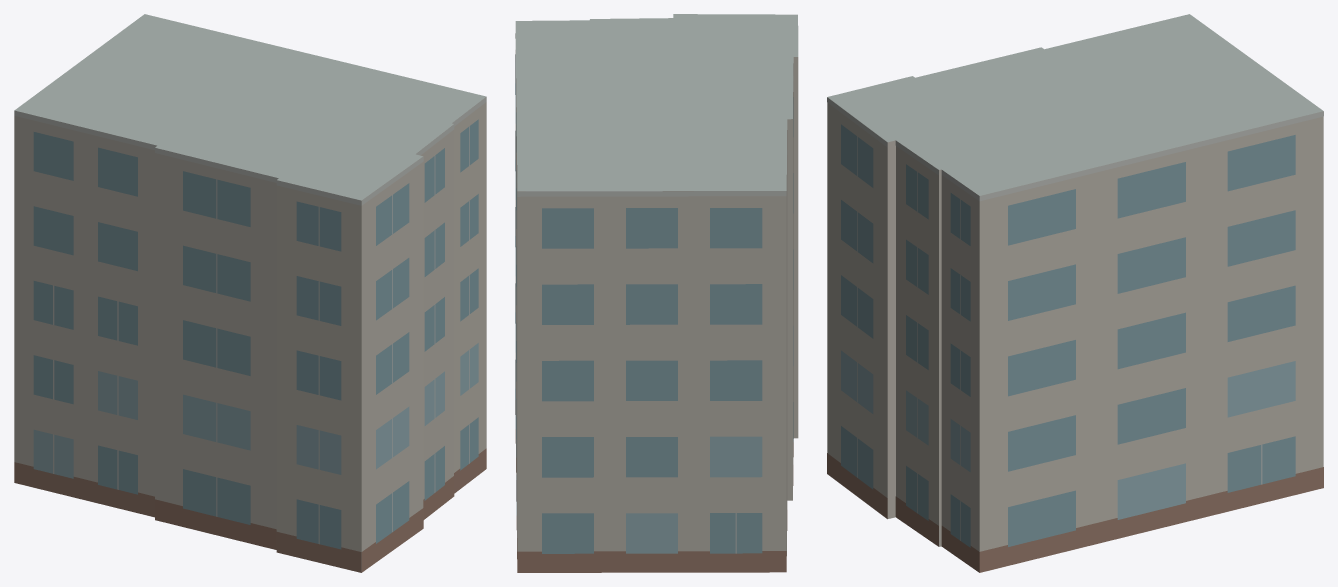
The model's file is survey-upis-33023597.glb.
3 renders of one model, left to right at view 1: azimuth 30°, elevation 25°; view 2: azimuth 150°, elevation 25°; view 3: azimuth 270°, elevation 25°, orthographic. The views are drawn at different scales.
Parts seen in each view (by area): view 1: survey-upis-33023597.tmp; view 2: survey-upis-33023597.tmp; view 3: survey-upis-33023597.tmp.
Part boxes in pixels (box(x1,y1,x2,y2)): survey-upis-33023597.tmp: box(14, 14, 486, 572); survey-upis-33023597.tmp: box(515, 14, 798, 572); survey-upis-33023597.tmp: box(827, 14, 1323, 572).
Size of the model in its own units: 17.82 by 17.2 by 20.55.
